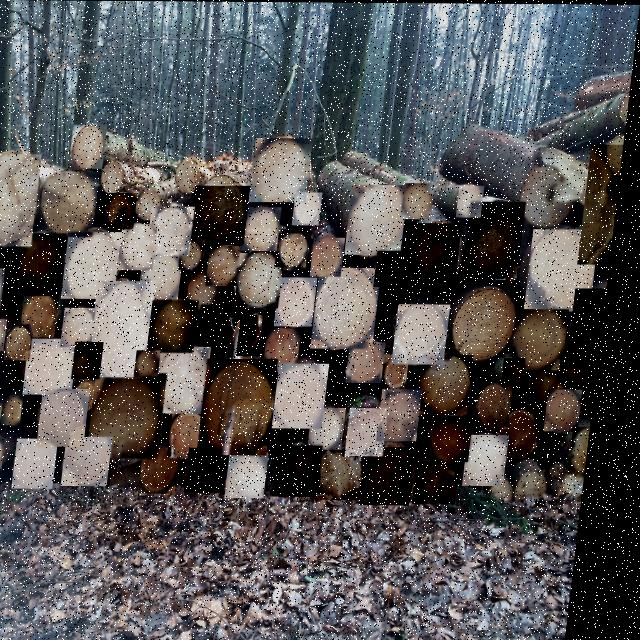wood-log: (208, 358, 287, 455), (97, 373, 176, 458), (96, 281, 163, 377), (531, 228, 605, 311), (319, 267, 388, 348), (456, 289, 526, 363), (584, 144, 627, 264), (468, 201, 531, 279), (523, 153, 588, 228), (404, 222, 468, 298), (351, 184, 414, 255), (0, 154, 46, 246), (253, 138, 316, 202), (43, 171, 104, 237), (68, 232, 127, 299), (162, 346, 220, 413), (194, 185, 255, 245), (282, 363, 338, 428), (15, 233, 72, 296), (520, 308, 577, 370), (400, 304, 458, 364), (426, 354, 482, 414), (372, 446, 427, 505), (47, 389, 100, 447), (32, 339, 86, 395), (575, 288, 613, 367), (241, 253, 291, 308), (155, 300, 206, 352), (284, 445, 334, 496), (73, 437, 123, 486), (329, 449, 377, 499), (387, 388, 432, 441), (152, 206, 200, 255), (474, 434, 520, 485), (23, 439, 69, 489), (145, 255, 189, 303), (507, 408, 549, 458), (282, 277, 324, 326), (356, 407, 398, 456), (197, 447, 241, 493), (441, 415, 484, 461), (424, 461, 471, 503), (237, 453, 280, 498), (150, 447, 191, 493), (178, 411, 218, 457), (124, 224, 163, 270), (485, 382, 523, 428), (28, 294, 67, 338), (248, 207, 287, 251), (271, 328, 310, 372), (72, 125, 110, 169), (355, 341, 394, 383), (318, 407, 356, 450), (554, 388, 592, 431), (213, 246, 249, 286), (316, 237, 351, 276), (69, 308, 103, 347), (206, 304, 239, 344), (538, 367, 571, 405), (281, 233, 315, 269), (406, 183, 439, 219), (194, 272, 226, 309), (111, 193, 143, 229), (81, 342, 112, 379), (12, 324, 42, 360), (380, 250, 409, 287), (245, 315, 271, 356), (579, 426, 601, 474), (390, 354, 418, 390), (297, 192, 327, 225), (567, 354, 596, 388), (461, 185, 489, 217), (185, 240, 211, 270), (143, 351, 170, 379), (510, 357, 534, 385), (11, 397, 33, 425), (0, 268, 12, 318), (0, 438, 16, 470), (0, 319, 15, 351), (0, 398, 7, 444), (0, 350, 7, 395)
